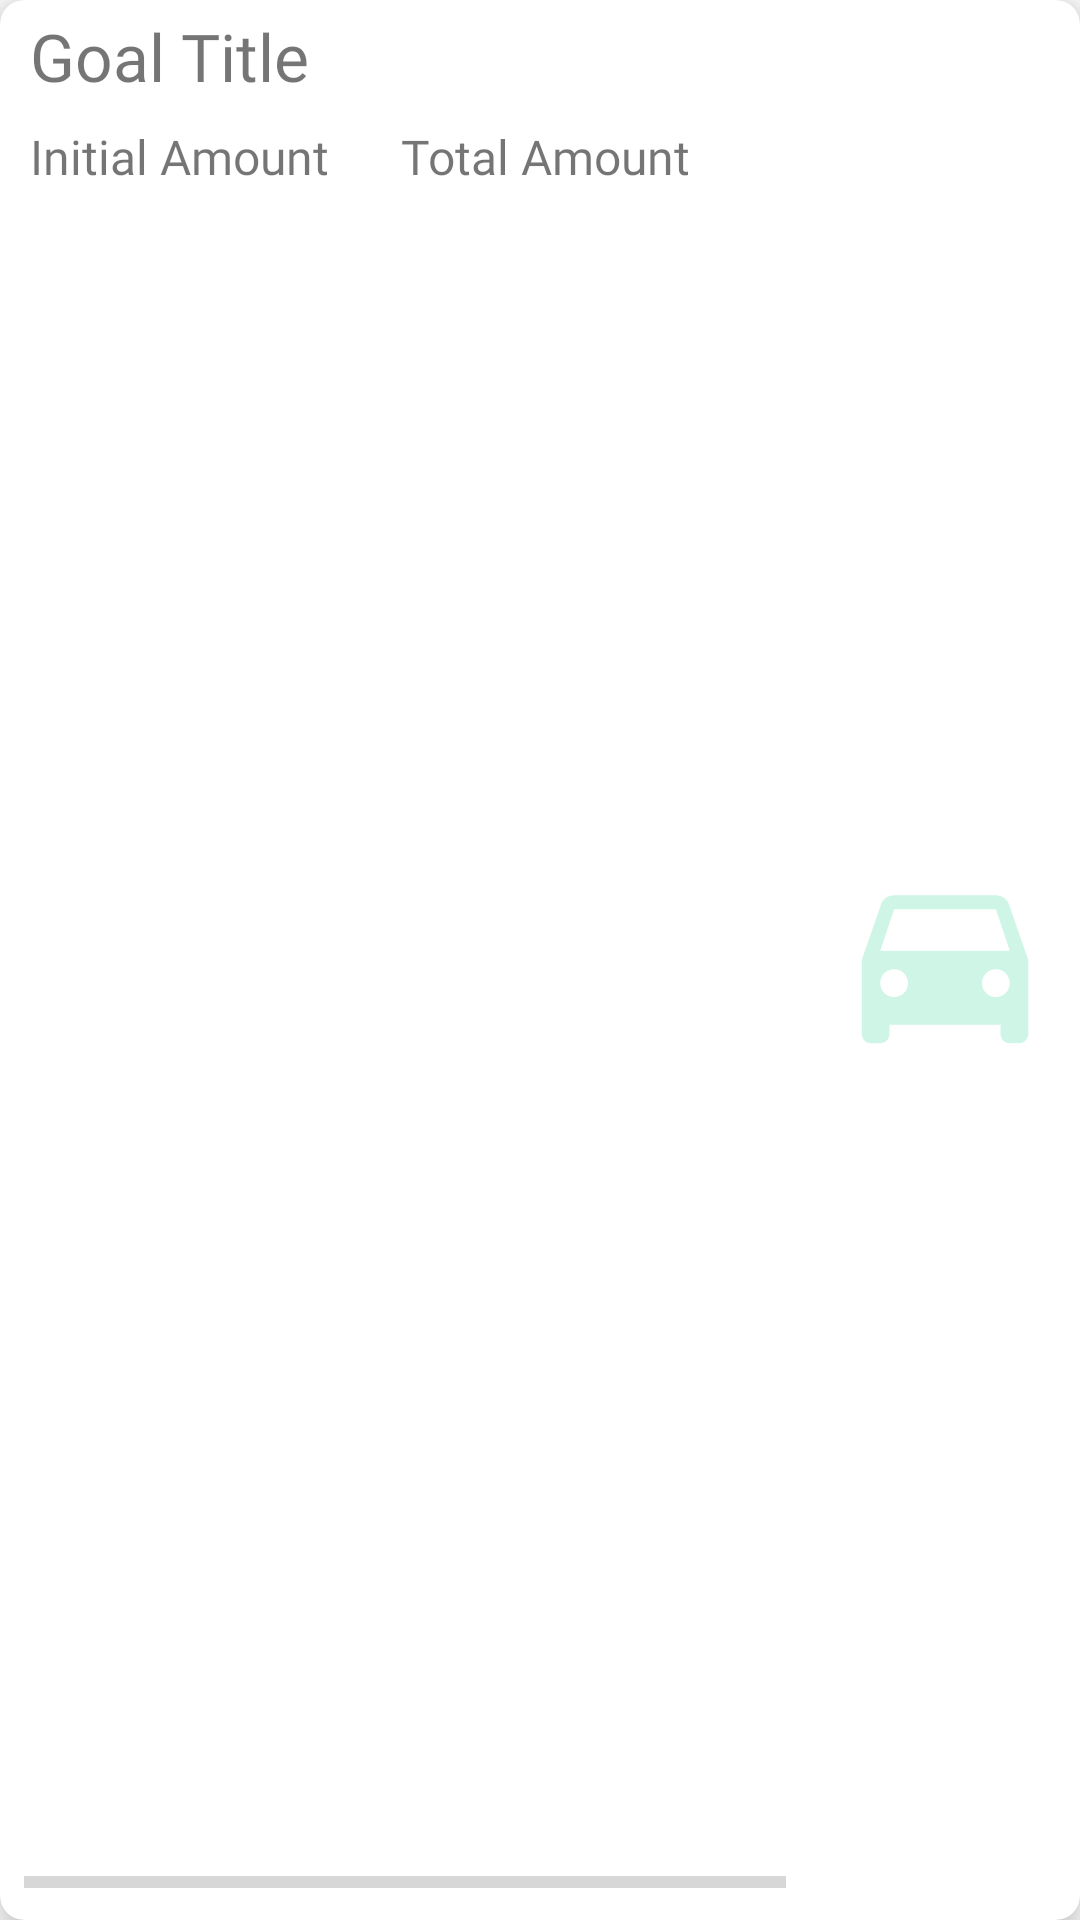

Icon click points for this 1080x1920 phone screenshot, format point (x, y):
car: point (945, 969)
